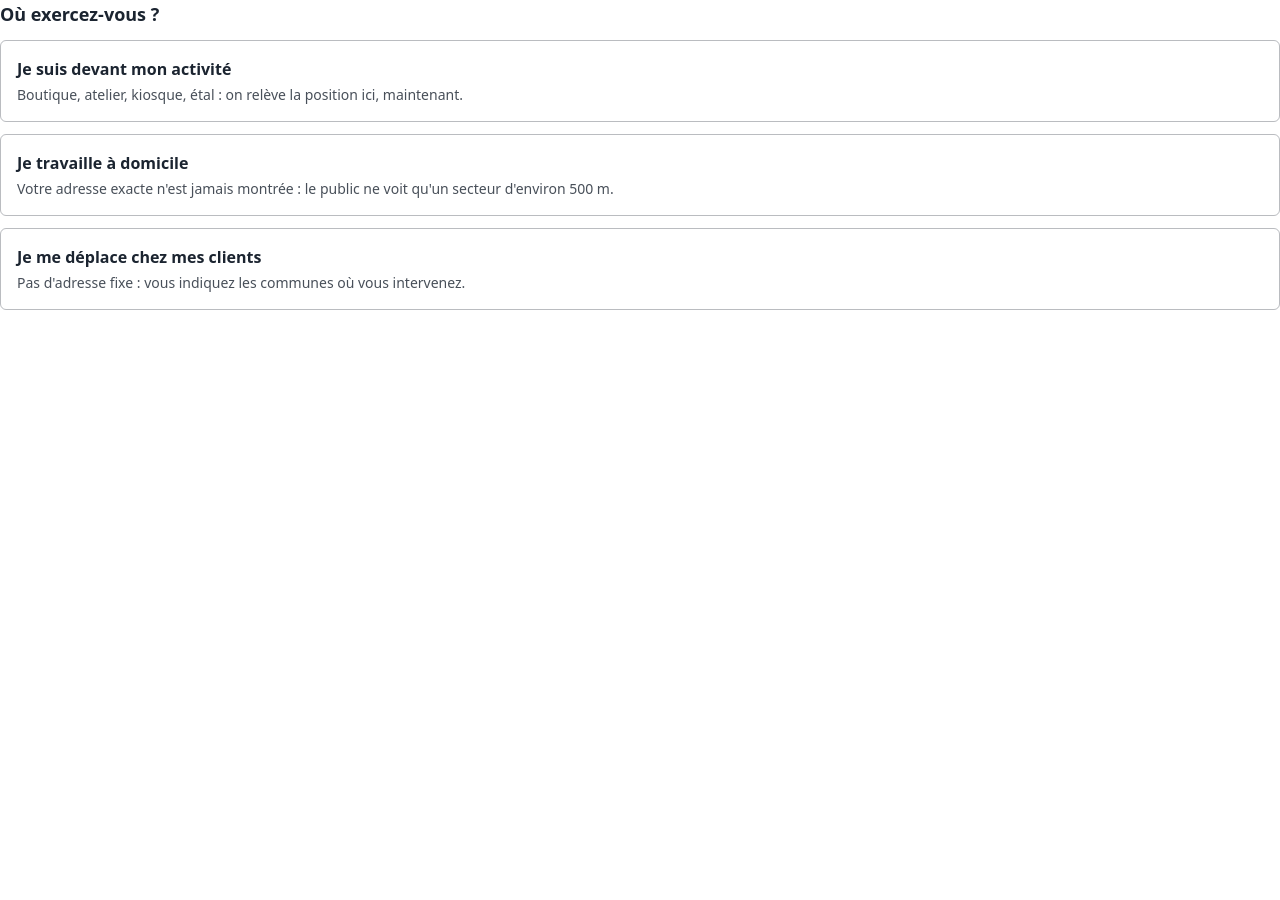
Test case: ListingForm › creates a draft on the spot: position, proposed commune, details (sprint criterion)
Later steps or results of the test are not shown.
Click the text "Je suis devant mon activité" at (124, 69), box x1=17 y1=58 x2=231 y2=80
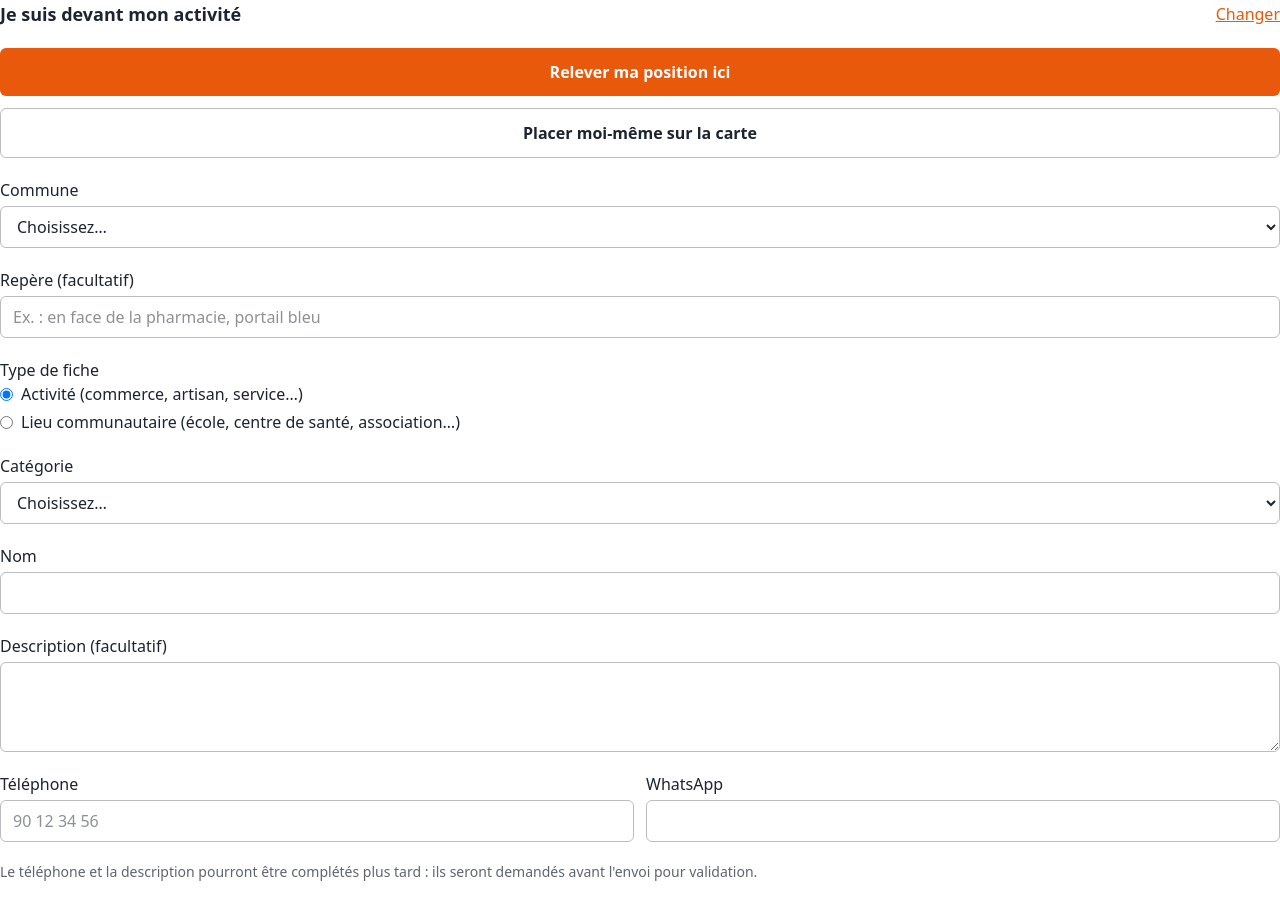
Click the button "Relever ma position ici" at (640, 72), box x1=0 y1=48 x2=1279 y2=96
(page scrolled)
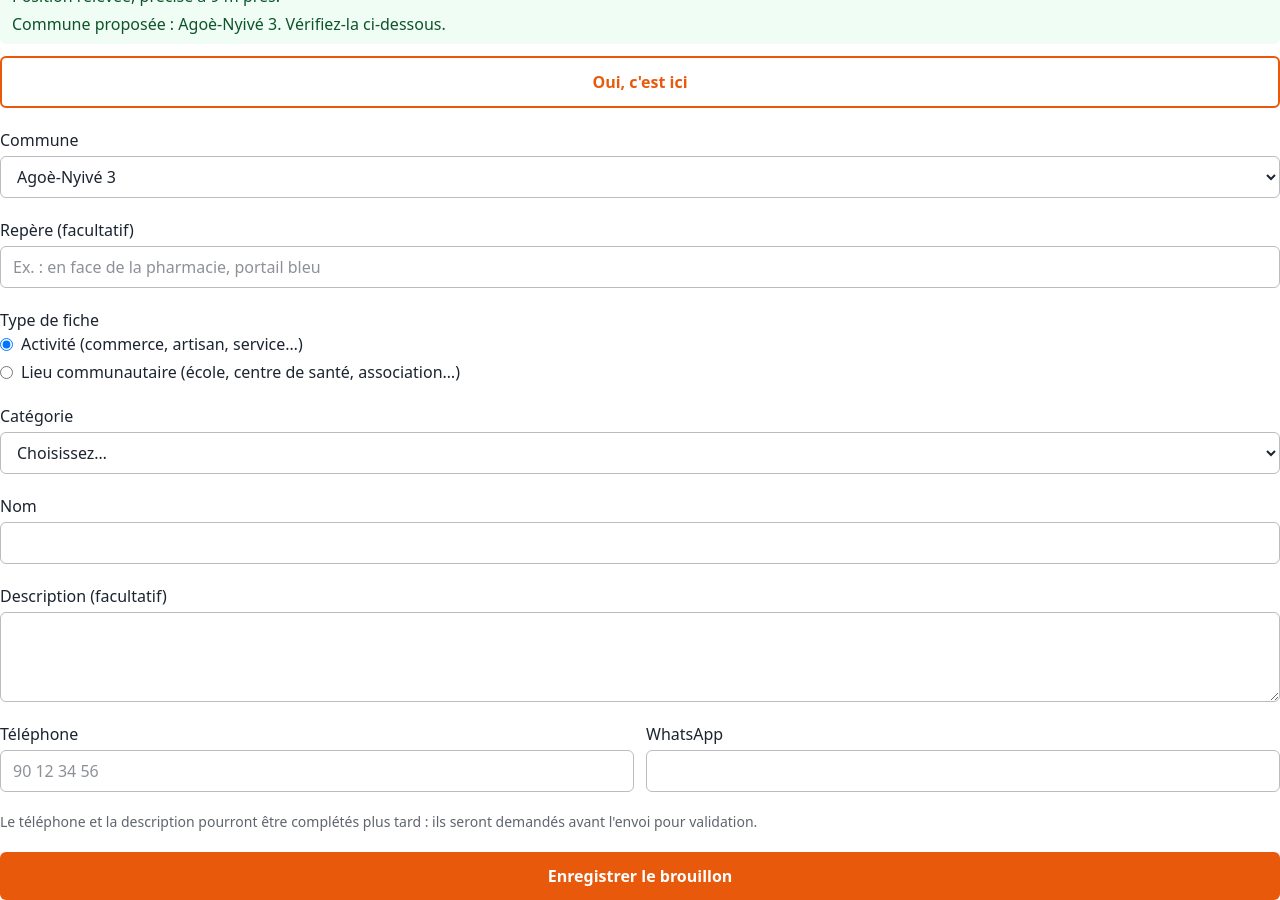
Now the message shows "Commune proposée : Agoè-Nyivé 3", box x1=12 y1=13 x2=446 y2=35
Now the dropdown labelled "Commune" shows "Agoè-Nyivé 3", box x1=0 y1=156 x2=1279 y2=198
# Nothing is sent until the pin is confirmed on the map (ADR-041).
Click the button "Enregistrer le brouillon" at (640, 876), box x1=0 y1=852 x2=1279 y2=899
(page scrolled)
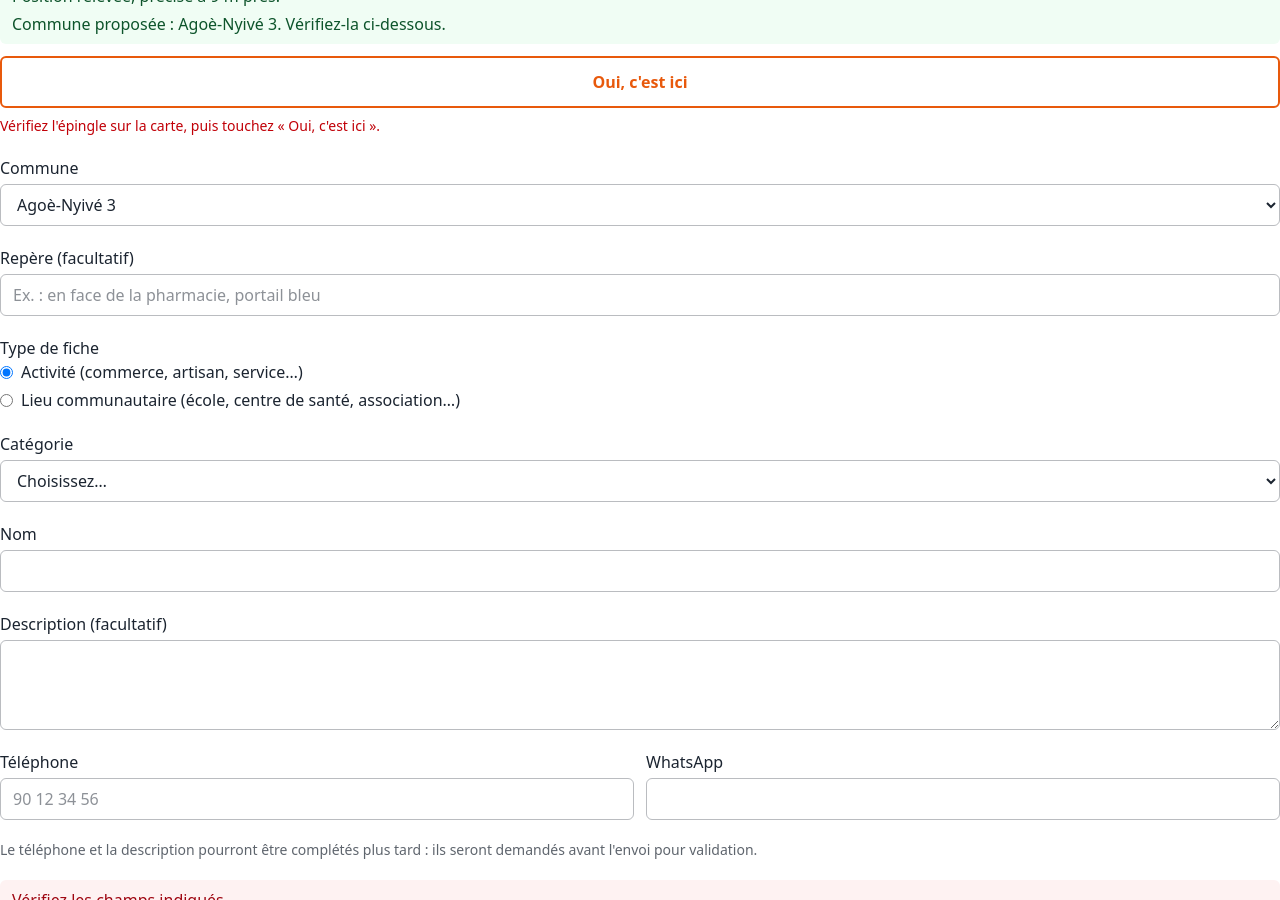
Now the text "Vérifiez l'épingle sur la carte" is shown, box x1=0 y1=116 x2=380 y2=135
